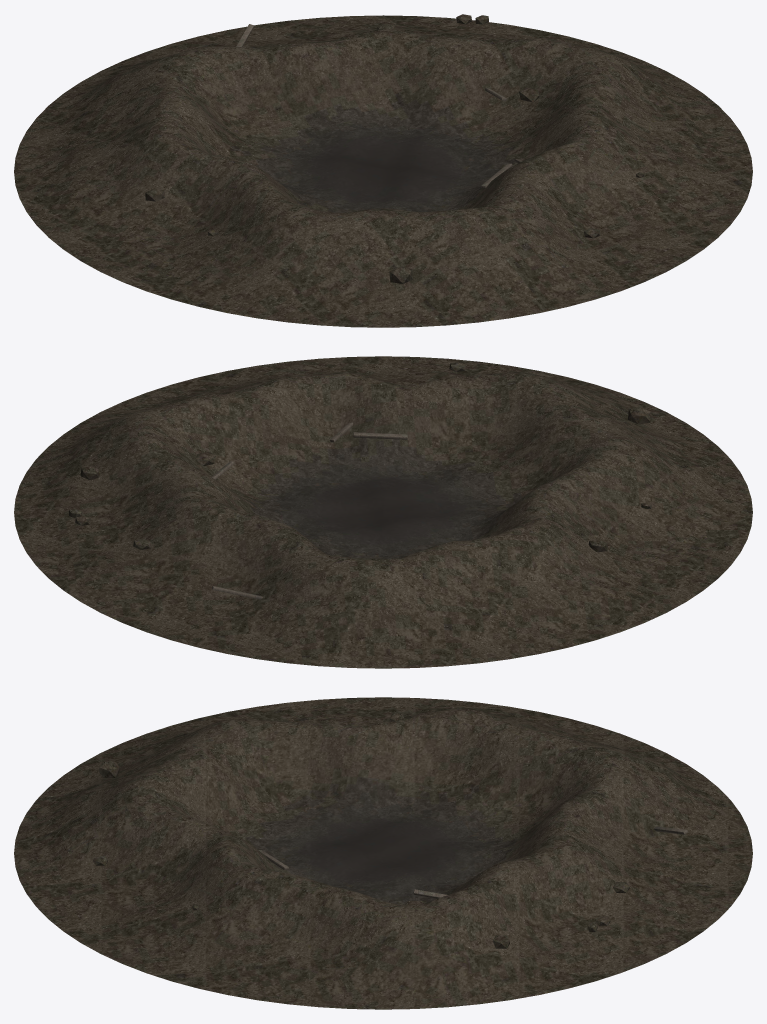
File: crater.glb
3 renders of one model, top to bottom at view 1: azimuth 30°, elevation 25°; view 2: azimuth 150°, elevation 25°; view 3: azimuth 270°, elevation 25°, orthographic.
Parts seen in each view (by area): view 1: crater_Crater; view 2: crater_Crater, crater_Wood; view 3: crater_Crater, crater_Wood.
Boxes of the visible parts, x1,y1,x2,y2 form: crater_Crater: (14, 14, 752, 327); crater_Crater: (14, 356, 752, 668); crater_Wood: (211, 422, 407, 599); crater_Crater: (14, 697, 752, 1009); crater_Wood: (258, 826, 687, 898).
Size of the model in its own units: 9.2 by 0.7907 by 9.2.
2 materials, 2 textured.
